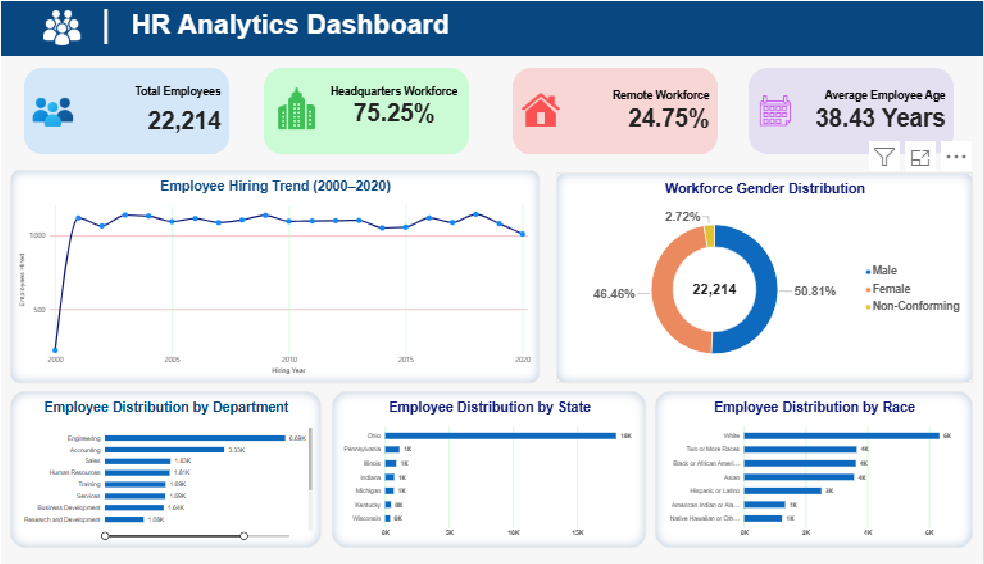

The page's visual inventory and layout, read from the dashboard file:
{"tool":"powerbi","page":{"name":"HR Overview","canvas":[1920,1080],"ordinal":0},"visuals":[{"type":"cardVisual","fields":{"Data":["Sum(06_HR_KPI_Summary.total_employees)"]},"box":[50,133.3,400,165.8],"z":0},{"type":"cardVisual","fields":{"Data":["Sum(06_HR_KPI_Summary.remote_percentage)"]},"box":[990.7,133.9,400,166],"z":1000},{"type":"cardVisual","fields":{"Data":["06_HR_KPI_Summary.Average Employee Age Display"]},"box":[1463.3,133.3,400,165],"z":2000},{"type":"cardVisual","fields":{"Data":["Sum(06_HR_KPI_Summary.headquarters_percentage)"]},"box":[516.7,133.3,400,166],"z":3000},{"type":"donutChart","title":"Workforce Gender Distribution","fields":{"Category":["02_Gender_Distribution.gender"],"Y":["Sum(02_Gender_Distribution.employee_count)"]},"box":[1087.5,332.5,812.5,402.5],"z":5000},{"type":"clusteredBarChart","title":"Employee Distribution by Department","fields":{"Category":["04_Department_Distribution.department"],"Y":["Sum(04_Department_Distribution.employee_count)"]},"box":[22.5,750,606.7,300],"z":6000},{"type":"clusteredBarChart","title":"\tEmployee Distribution by State","fields":{"Category":["03_State_Distribution.location_state"],"Y":["Sum(03_State_Distribution.employee_count)"]},"box":[650,750,613.3,300],"z":7000},{"type":"clusteredBarChart","title":"Employee Distribution by Race","fields":{"Category":["05_Race_Distribution.race"],"Y":["Sum(05_Race_Distribution.employee_count)"]},"box":[1280,750,620,300],"z":8000},{"type":"textbox","box":[0,0,1920,110],"z":9000},{"type":"image","box":[87.5,12.5,73.3,86.7],"z":10000},{"type":"textbox","box":[200,7.5,87.5,110],"z":11000},{"type":"lineChart","title":"Employee Hiring Trend (2000–2020)","fields":{"Category":["01_Hiring_Trend.hiring_year"],"Y":["Sum(01_Hiring_Trend.employees_hired)"]},"box":[22.5,327.5,1032.5,407.5],"z":13002}]}

Visuals, with their boxes in screenshot pixels (x1, y1, x2, y2), scaled from the page's 1920x1080 canvas onto the 984x564 screenshot:
cardVisual - Sum(06_HR_KPI_Summary.total_employees): [left=26, top=70, right=231, bottom=156]
cardVisual - Sum(06_HR_KPI_Summary.remote_percentage): [left=508, top=70, right=713, bottom=157]
cardVisual - 06_HR_KPI_Summary.Average Employee Age Display: [left=750, top=70, right=955, bottom=156]
cardVisual - Sum(06_HR_KPI_Summary.headquarters_percentage): [left=265, top=70, right=470, bottom=156]
"Workforce Gender Distribution" donutChart: [left=557, top=174, right=974, bottom=384]
"Employee Distribution by Department" clusteredBarChart: [left=12, top=392, right=322, bottom=548]
"	Employee Distribution by State" clusteredBarChart: [left=333, top=392, right=647, bottom=548]
"Employee Distribution by Race" clusteredBarChart: [left=656, top=392, right=974, bottom=548]
textbox: [left=0, top=0, right=983, bottom=57]
image: [left=45, top=7, right=82, bottom=52]
textbox: [left=102, top=4, right=147, bottom=61]
"Employee Hiring Trend (2000–2020)" lineChart: [left=12, top=171, right=541, bottom=384]
